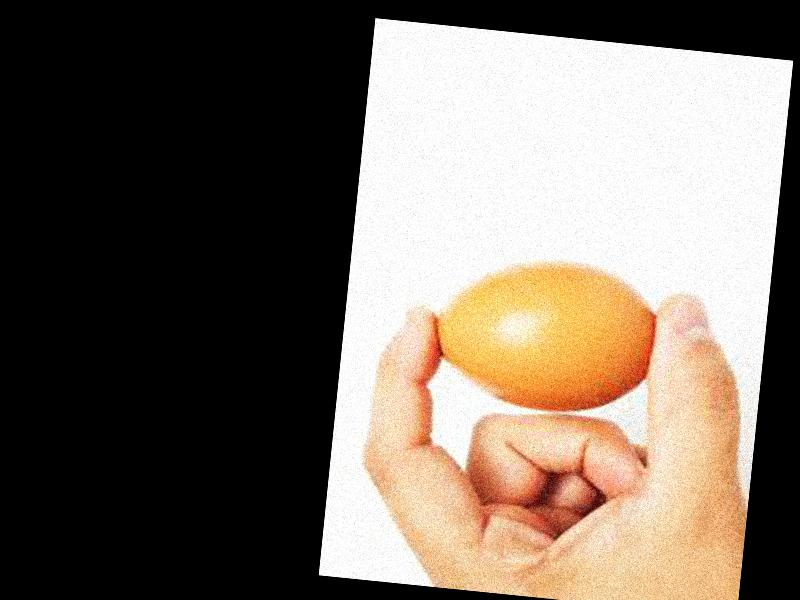Eggs: (424, 247, 661, 422)
